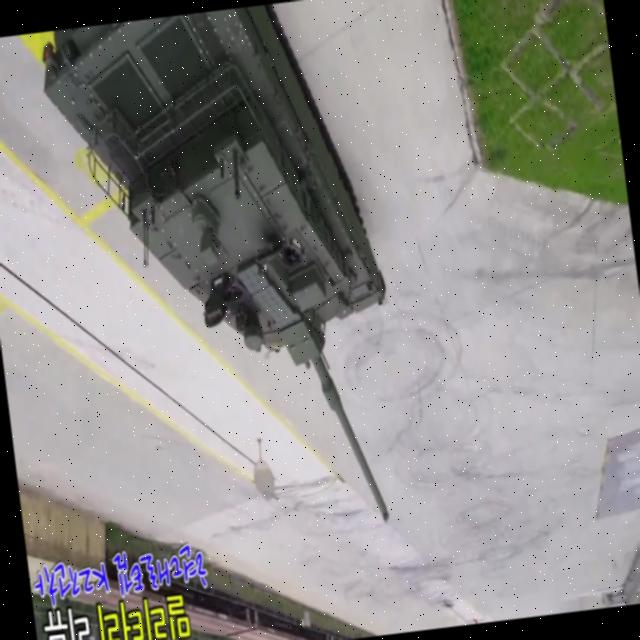korea tank: (34, 0, 416, 561)
